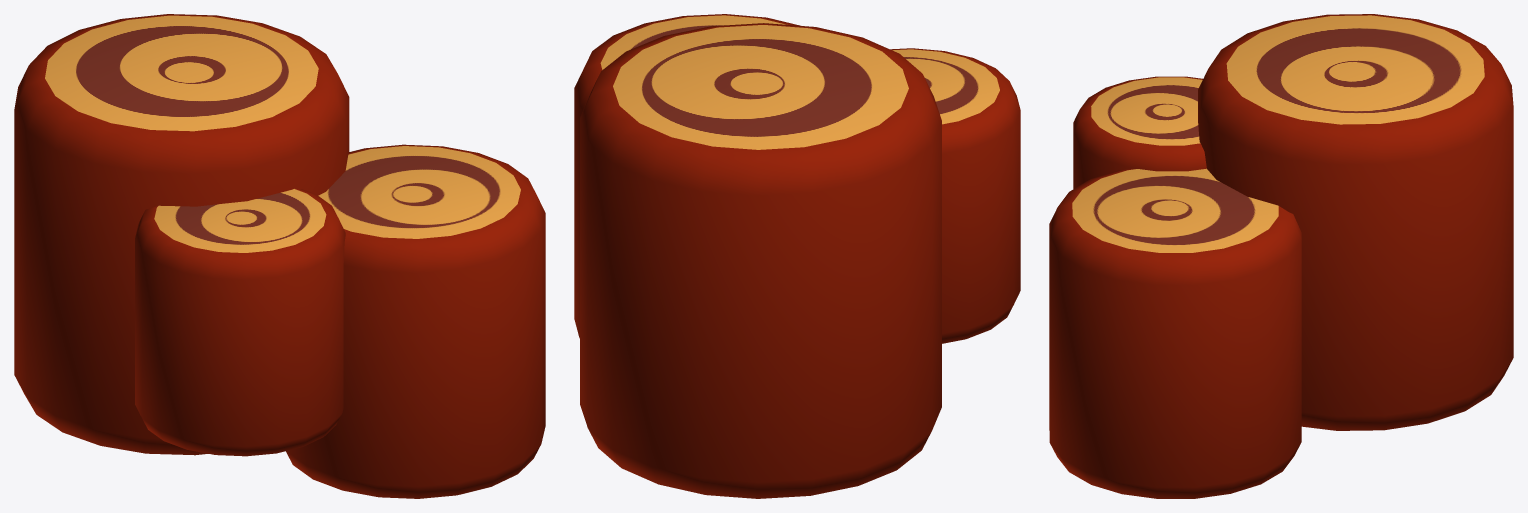
Rendered from LogsCombined.fbx.
3 views of the same model, side by side, from view 1: azimuth 30°, elevation 25°; view 2: azimuth 150°, elevation 25°; view 3: azimuth 270°, elevation 25° (orthographic). The views are drawn at different scales.
Parts seen in each view (by area): view 1: LogsCombined1, LogsCombined2, LogsCombined3; view 2: LogsCombined1, LogsCombined3, LogsCombined2; view 3: LogsCombined1, LogsCombined2, LogsCombined3.
Part boxes in pixels (<box>): LogsCombined1: <box>14,14,349,455</box>; LogsCombined2: <box>286,144,545,498</box>; LogsCombined3: <box>135,188,345,456</box>; LogsCombined1: <box>580,23,941,498</box>; LogsCombined3: <box>890,48,1020,343</box>; LogsCombined2: <box>574,14,800,338</box>; LogsCombined1: <box>1198,14,1513,430</box>; LogsCombined2: <box>1049,168,1301,498</box>; LogsCombined3: <box>1073,76,1206,188</box>.
Bounding box in the file's own units: 2.96 × 2.45 × 3.19.
